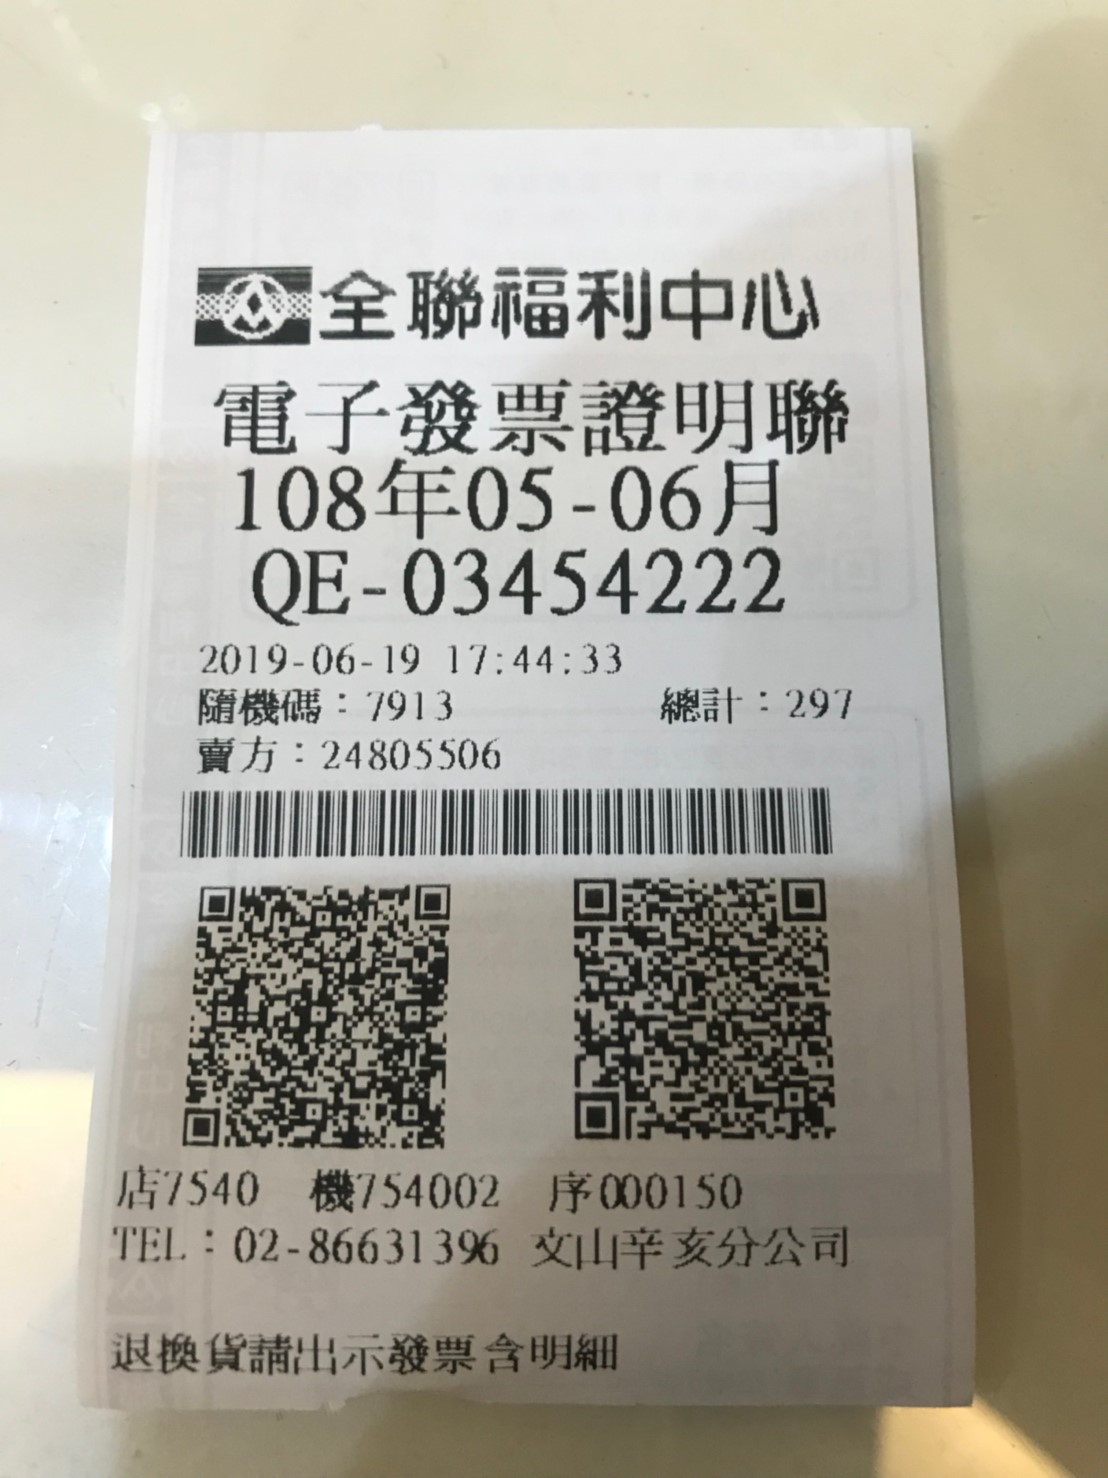Date_New: (237, 457, 777, 539)
Number_New: (400, 545, 789, 614)
